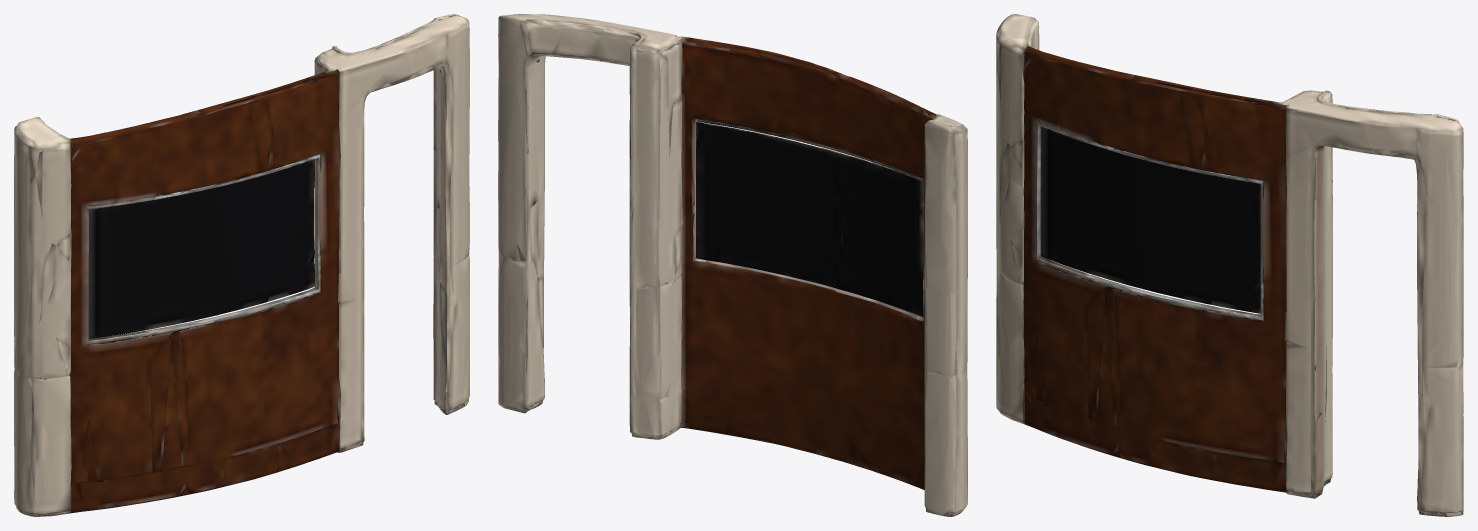
Rendered from cab_bulkhead.glb.
3 views of the same model, side by side, from view 1: azimuth 30°, elevation 25°; view 2: azimuth 150°, elevation 25°; view 3: azimuth 330°, elevation 25° (orthographic).
Visible parts, largest first — view 1: LO; view 2: LO; view 3: LO.
Boxes of the visible parts, bbox=[...] form: LO: bbox=[14, 14, 469, 516]; LO: bbox=[498, 14, 967, 516]; LO: bbox=[996, 14, 1463, 516].
Size of the model in its own units: 2.4 by 1.95 by 0.3226.
Materials: 1 (1 with a texture image).
